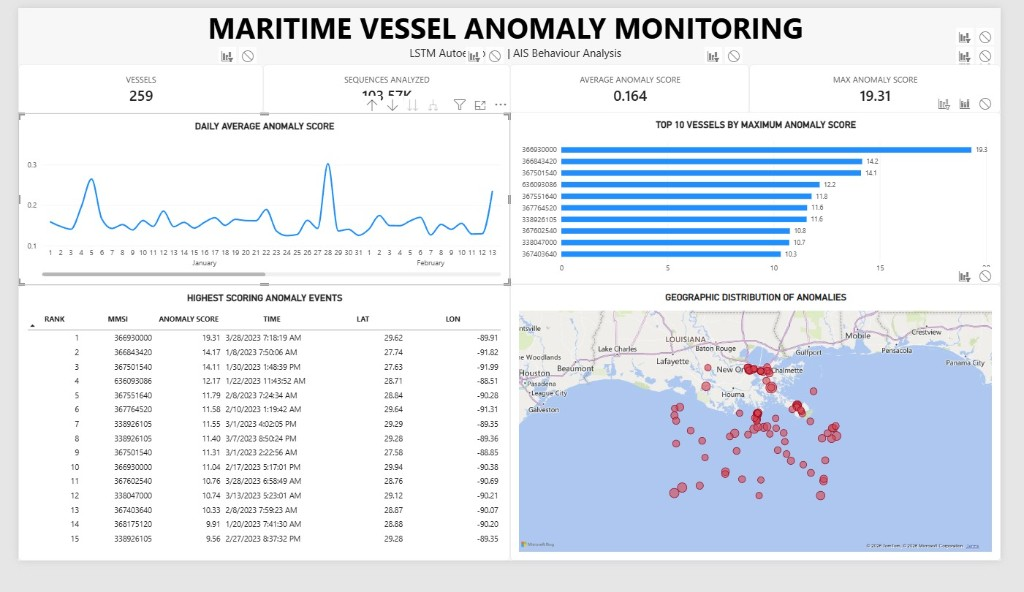

Layout of this report page (visuals, bound fields, positions):
{"tool":"powerbi","page":{"name":"Anomaly Monitoring ","canvas":[1920,1080],"ordinal":0},"visuals":[{"type":"textbox","box":[0,0,1920.1,82.9],"z":0},{"type":"cardVisual","fields":{"Data":["ais_anomaly_results.VESSEL_MONITORED"]},"box":[0,109.8,478.1,96.2],"z":0,"group":"g1"},{"type":"textbox","box":[0,72.2,1920,37.6],"z":1000},{"type":"cardVisual","fields":{"Data":["ais_anomaly_results.SEQUENCES ANALYZED"]},"box":[478.1,109.8,482.6,96.2],"z":1000,"group":"g1"},{"type":"cardVisual","fields":{"Data":["Avg(ais_anomaly_results.anomaly_score)"]},"box":[960.8,109.8,467.6,96.2],"z":2000,"group":"g1"},{"type":"lineChart","title":"DAILY AVERAGE ANOMALY SCORE ","fields":{"Category":["ais_anomaly_results.base_datetime.Variation.Date Hierarchy.Month","ais_anomaly_results.base_datetime.Variation.Date Hierarchy.Day"],"Y":["Avg(ais_anomaly_results.anomaly_score)"]},"box":[0,205.7,961.4,335.7],"z":2000},{"type":"group","id":"g1","title":"Group 1","box":[0,109.8,1920,96.2],"z":3000},{"type":"cardVisual","fields":{"Data":["Max(ais_anomaly_results.anomaly_score)"]},"box":[1428.3,109.8,491.7,96.2],"z":3000,"group":"g1"},{"type":"barChart","title":"TOP 10 VESSELS BY MAXIMUM ANOMALY SCORE ","fields":{"Category":["ais_anomaly_results.mmsi"],"Y":["Max(ais_anomaly_results.anomaly_score)"]},"box":[961.4,202.9,958.6,337.1],"z":4000},{"type":"map","title":"GEOGRAPHIC DISTRIBUTION OF ANOMALIES","fields":{"Size":["Max(ais_anomaly_results.anomaly_score)"],"X":["ais_anomaly_results.lon"],"Y":["ais_anomaly_results.lat"]},"box":[961.4,540,958.6,540],"z":5000},{"type":"tableEx","title":"HIGHEST SCORING ANOMALY EVENTS","fields":{"Values":["ais_anomaly_results.rank","ais_anomaly_results.mmsi","ais_anomaly_results.anomaly_score","ais_anomaly_results.start_time","ais_anomaly_results.lat","ais_anomaly_results.lon"]},"box":[0,541.4,961.4,538.6],"z":6000}]}

Visuals, with their boxes in screenshot pixels (x1, y1, x2, y2), scaled from the page's 1920x1080 canvas onto the 1024x592 screenshot:
textbox: (0,0,1023,45)
cardVisual - ais_anomaly_results.VESSEL_MONITORED: (0,60,255,113)
textbox: (0,40,1023,60)
cardVisual - ais_anomaly_results.SEQUENCES ANALYZED: (255,60,512,113)
cardVisual - Avg(ais_anomaly_results.anomaly_score): (512,60,762,113)
"DAILY AVERAGE ANOMALY SCORE " lineChart: (0,113,513,297)
"Group 1" group: (0,60,1023,113)
cardVisual - Max(ais_anomaly_results.anomaly_score): (762,60,1023,113)
"TOP 10 VESSELS BY MAXIMUM ANOMALY SCORE " barChart: (513,111,1023,296)
"GEOGRAPHIC DISTRIBUTION OF ANOMALIES" map: (513,296,1023,591)
"HIGHEST SCORING ANOMALY EVENTS" tableEx: (0,297,513,591)
